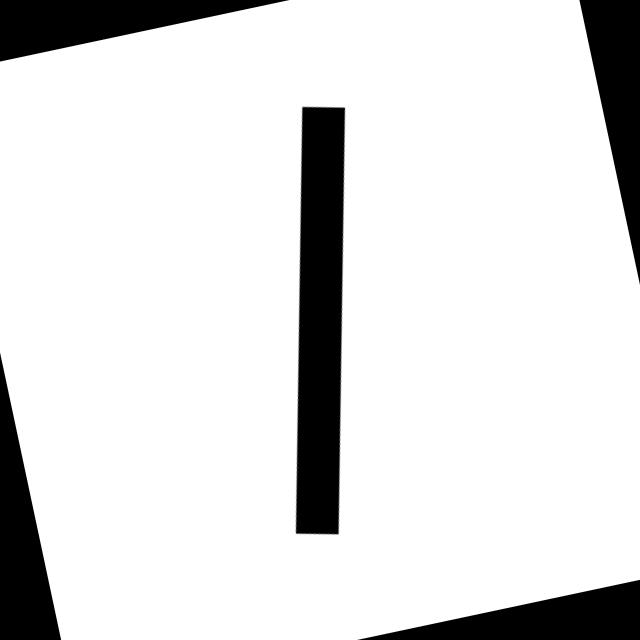line: (295, 107, 345, 534)
